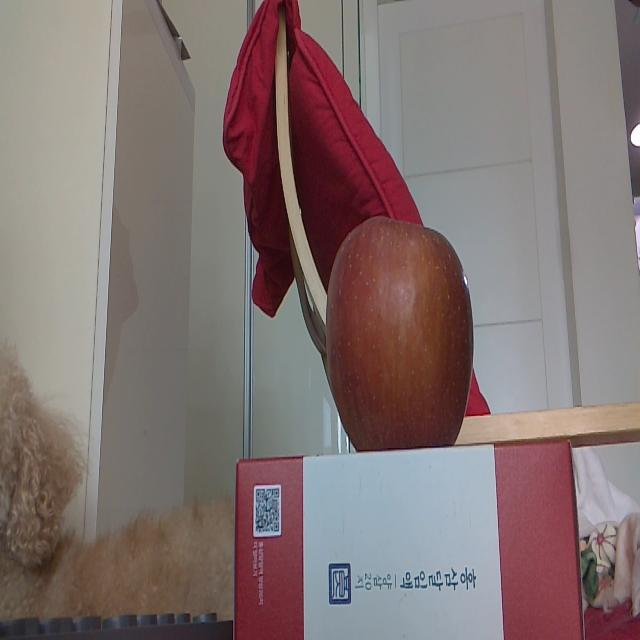apple: (324, 214, 476, 456)
